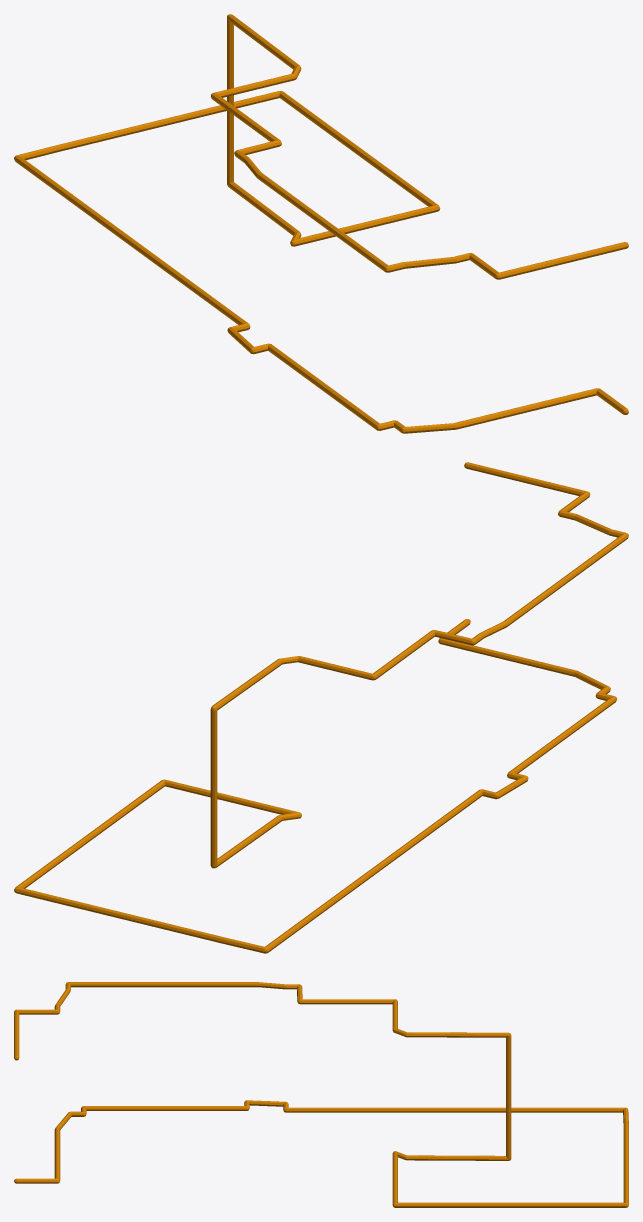
3 renders of one model, top to bottom at view 1: azimuth 30°, elevation 25°; view 2: azimuth 150°, elevation 25°; view 3: azimuth 270°, elevation 25°, orthographic. The views are drawn at different scales.
Bounding box in the file's own units: 912 × 520 × 2263.
